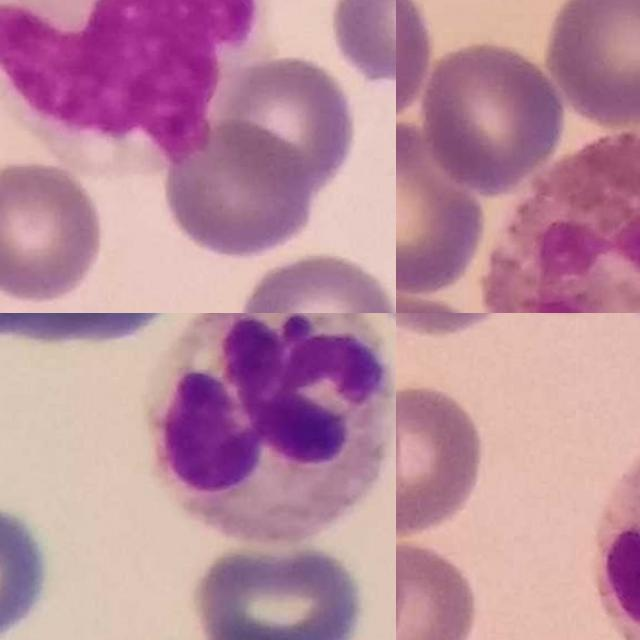Eosinophil: (485, 130, 640, 313)
Monocyte: (0, 0, 264, 167)
Neutrophil: (147, 313, 396, 543)
